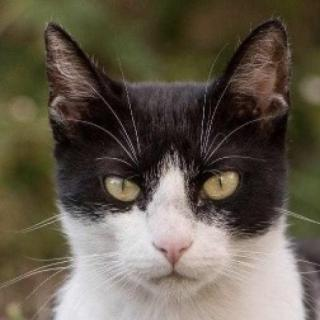cat: (39, 20, 302, 311)
nose: (144, 202, 202, 264)
